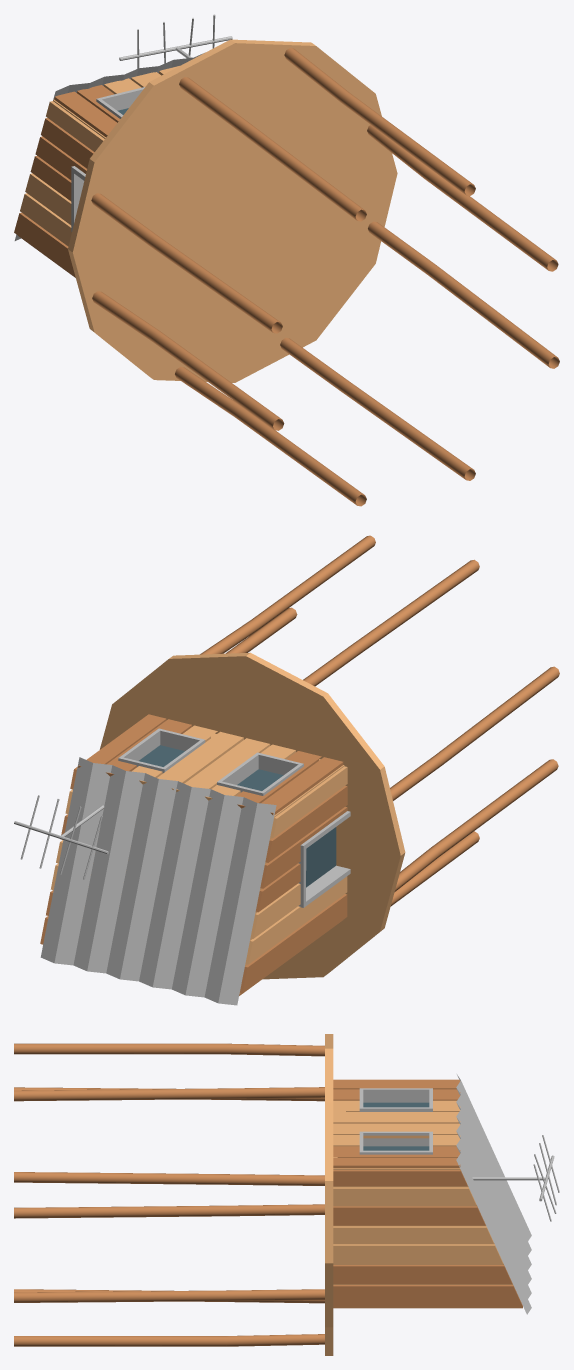
Rendered from Hut_2_circular base.fbx.
The picture shows the model from 3 angles, top to bottom: view 1: azimuth 30°, elevation 25°; view 2: azimuth 150°, elevation 25°; view 3: azimuth 270°, elevation 25°; orthographic projection. The views are drawn at different scales.
Parts seen in each view (by area): view 1: Circle.010; view 2: Circle.010; view 3: Circle.010.
Boxes of the visible parts, bbox=[...] form: Circle.010: bbox=[14, 14, 559, 506]; Circle.010: bbox=[14, 535, 559, 1005]; Circle.010: bbox=[14, 1034, 559, 1355].
Size of the model in its own units: 310 by 310 by 524.
